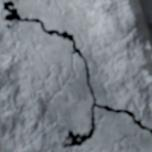brick: (0, 17, 151, 151), (13, 0, 151, 128), (0, 0, 6, 7)
crack: (0, 0, 151, 149)
